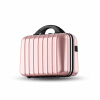shoutibox: (20, 22, 78, 80)
